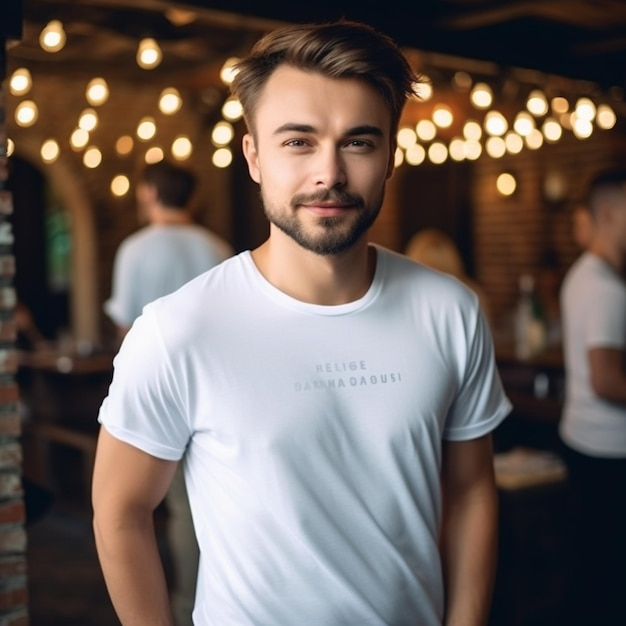young: (226, 21, 433, 251)
